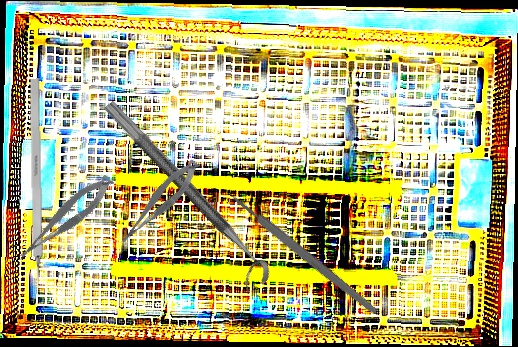Fixation Ring: (88, 98, 277, 297)
Hook Surgical: (29, 78, 44, 298)
Micro Scissor: (6, 170, 123, 265), (108, 155, 209, 249)
Scalpel Handle: (230, 193, 380, 317)
